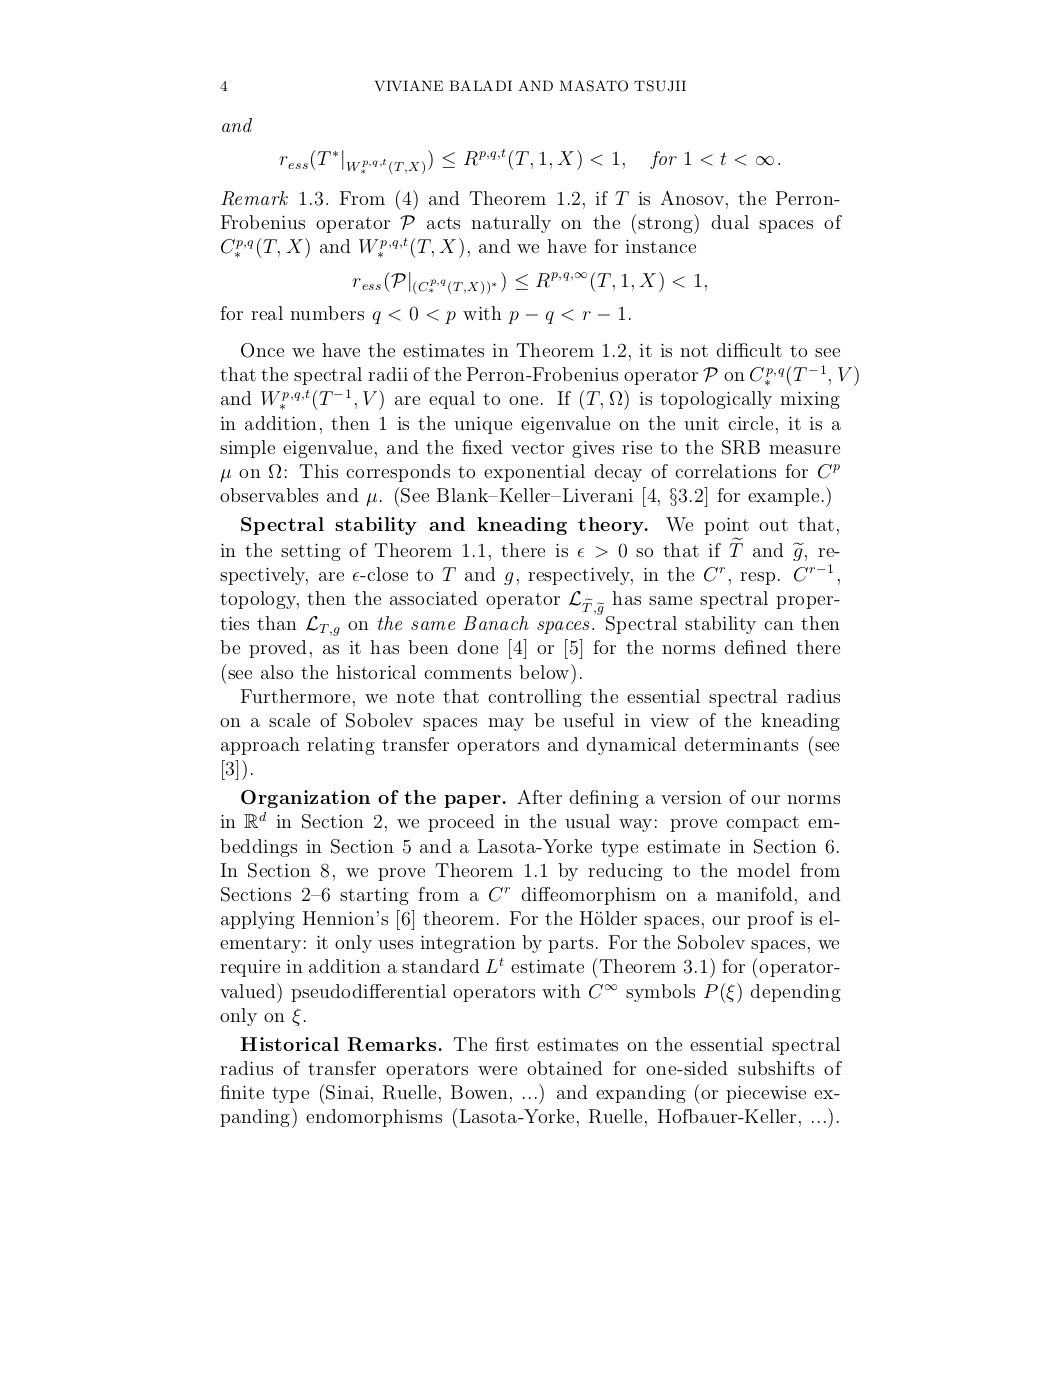formula: (279, 148, 780, 175), (352, 271, 705, 295)
